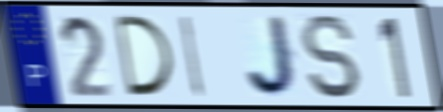1: (376, 15, 413, 101)
2: (57, 13, 114, 98)
D: (111, 13, 178, 98)
I: (179, 13, 207, 99)
J: (244, 14, 302, 100)
S: (297, 12, 363, 102)
